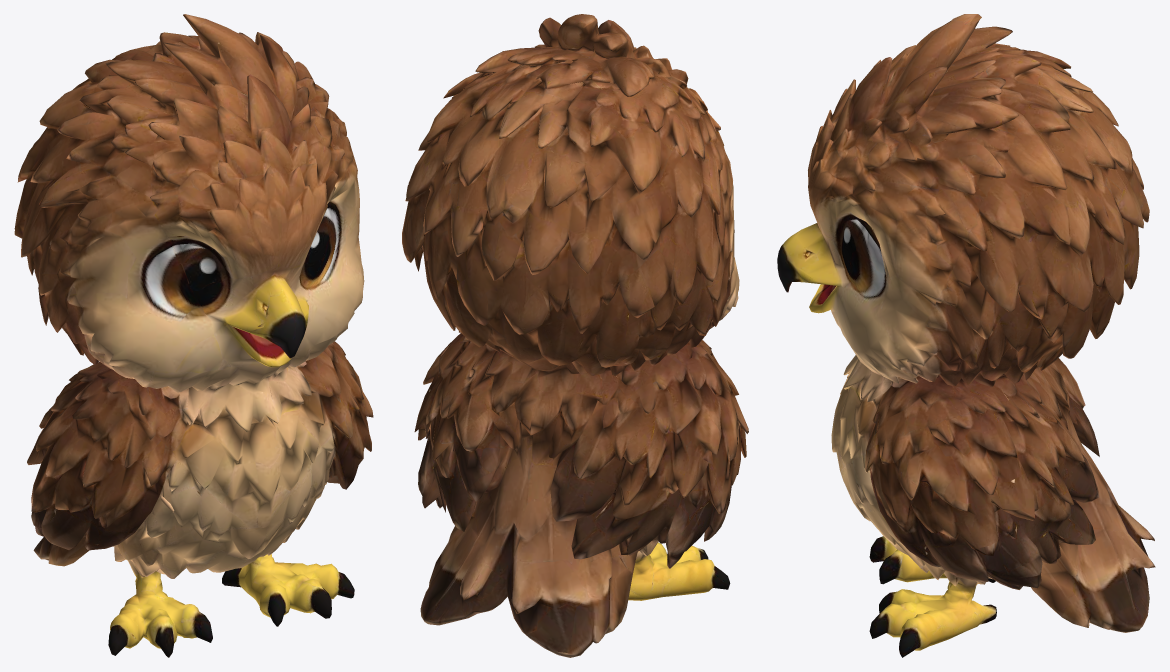
Rendered from kite_v1.glb.
3 renders of one model, left to right at view 1: azimuth 30°, elevation 25°; view 2: azimuth 150°, elevation 25°; view 3: azimuth 270°, elevation 25°, orthographic. The views are drawn at different scales.
Bounding box in the file's own units: 1.07 × 1.9 × 1.12.
Materials: 1 (1 with a texture image).
